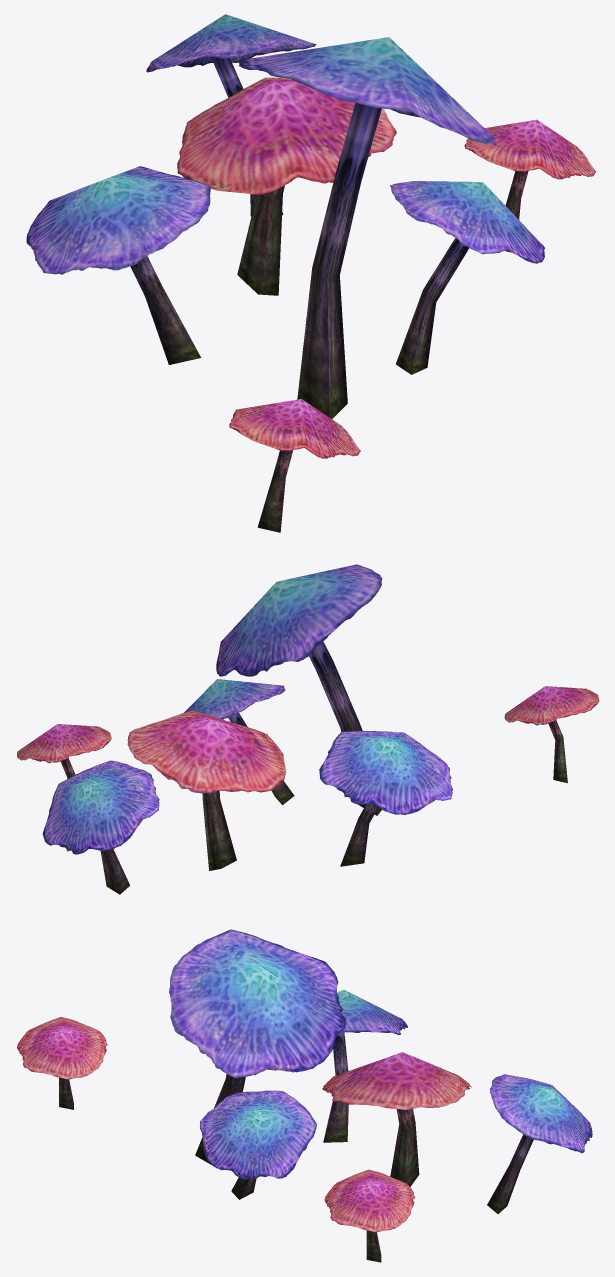
Rendered from wm_灌木小蘑菇03.fbx.
3 renders of one model, top to bottom at view 1: azimuth 30°, elevation 25°; view 2: azimuth 150°, elevation 25°; view 3: azimuth 270°, elevation 25°, orthographic. The views are drawn at different scales.
Visible parts, largest first — view 1: wm_灌木小蘑菇03; view 2: wm_灌木小蘑菇03; view 3: wm_灌木小蘑菇03.
Boxes of the visible parts, x1,y1,x2,y2 form: wm_灌木小蘑菇03: (26, 14, 595, 532); wm_灌木小蘑菇03: (17, 564, 599, 894); wm_灌木小蘑菇03: (17, 929, 592, 1262).
Bounding box in the file's own units: 103 × 56.91 × 132.
